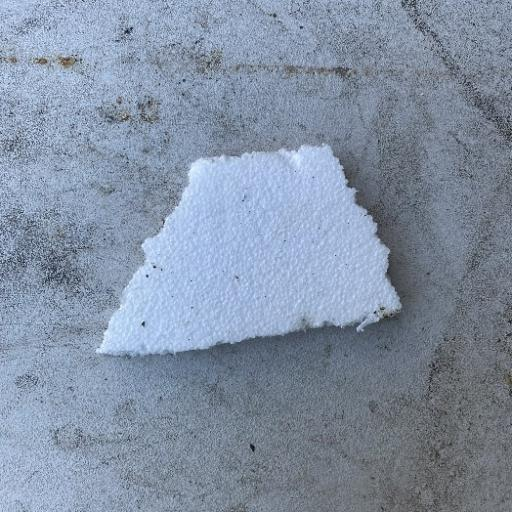Plastic: (94, 140, 403, 360)
